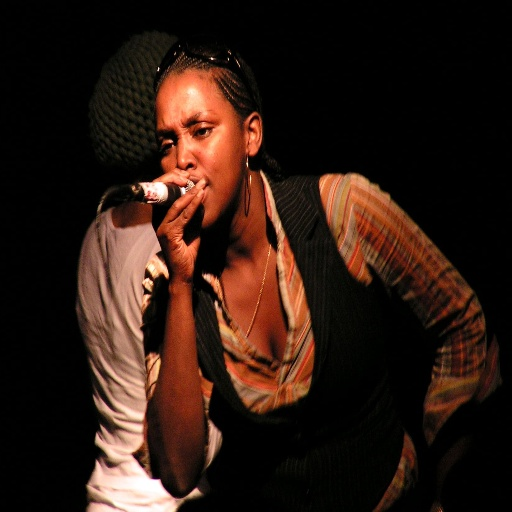hand: (149, 165, 207, 281), (399, 442, 437, 511)
